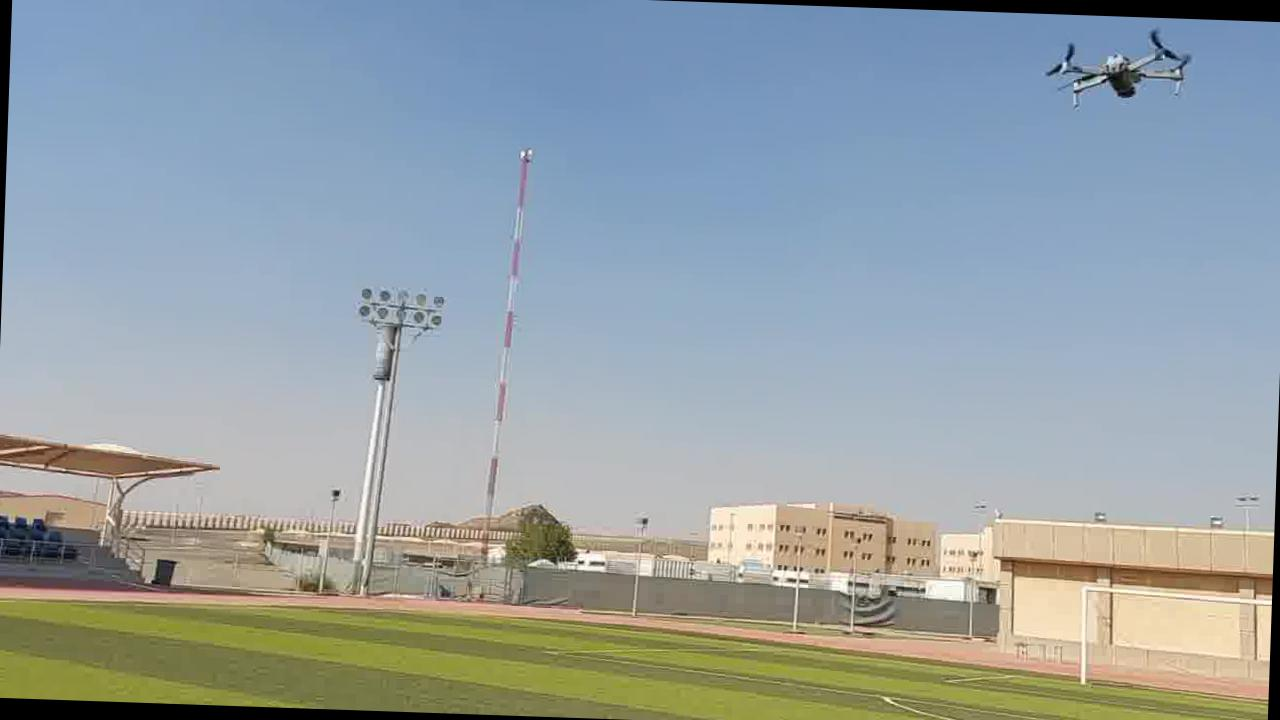drone: (1022, 21, 1202, 130)
